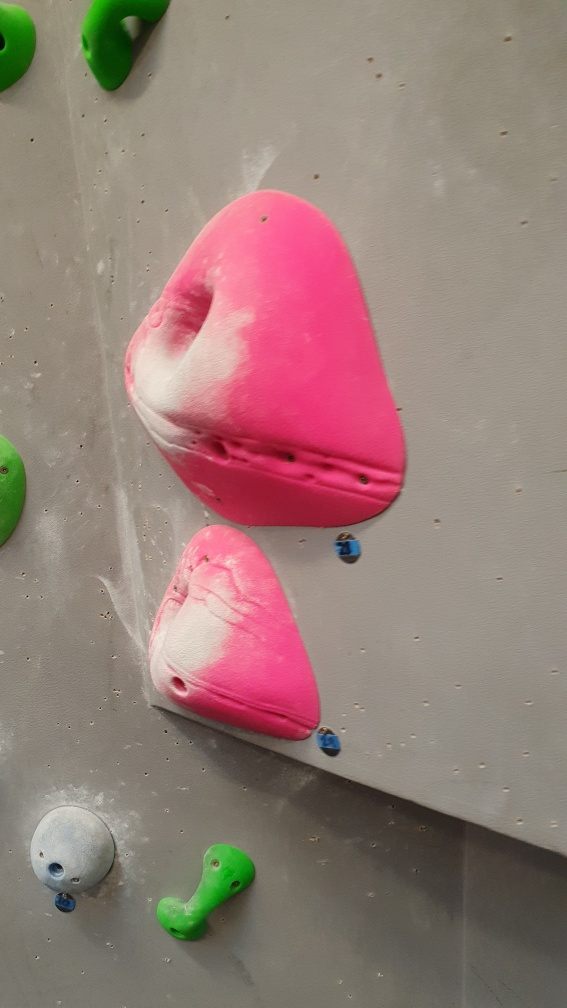Hand Start: (325, 528, 367, 569), (48, 890, 83, 920), (315, 725, 343, 762)
Pocket: (126, 181, 412, 534), (145, 522, 326, 743)
Sloper: (30, 803, 118, 899)
